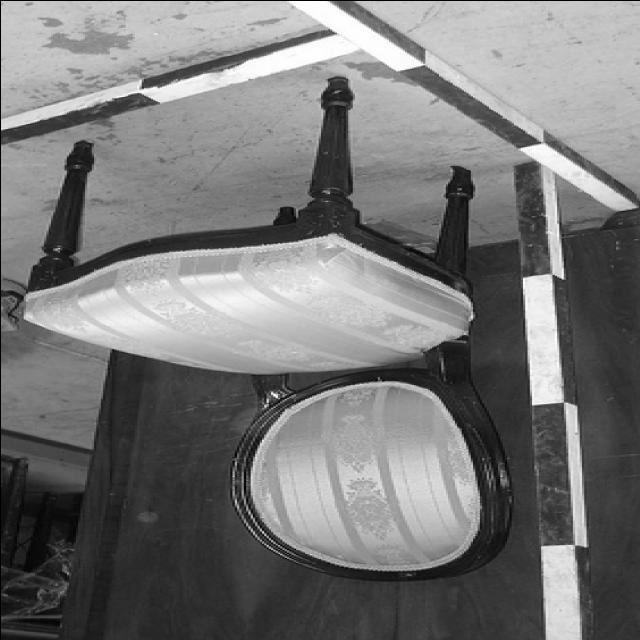chair: (13, 76, 543, 582)
